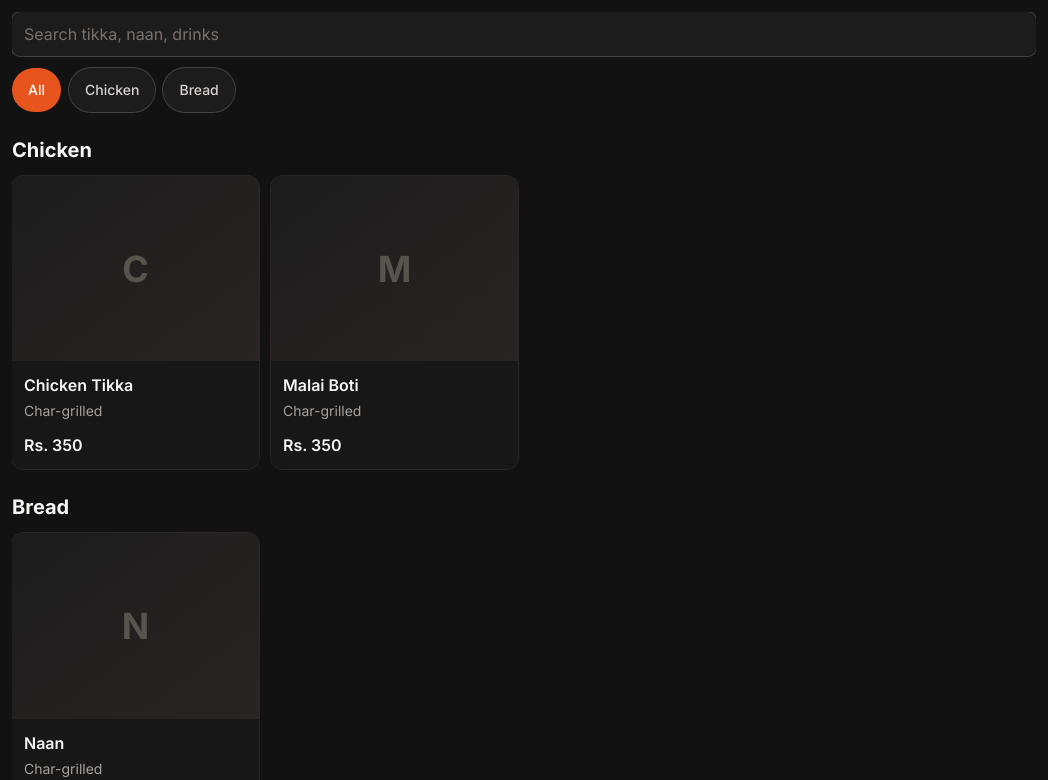
Scenario: MenuBrowser › searches as you type
Type "malai" into the search field named "Search the menu".
click(524, 34); type("malai")  # box [12, 12, 1036, 56]
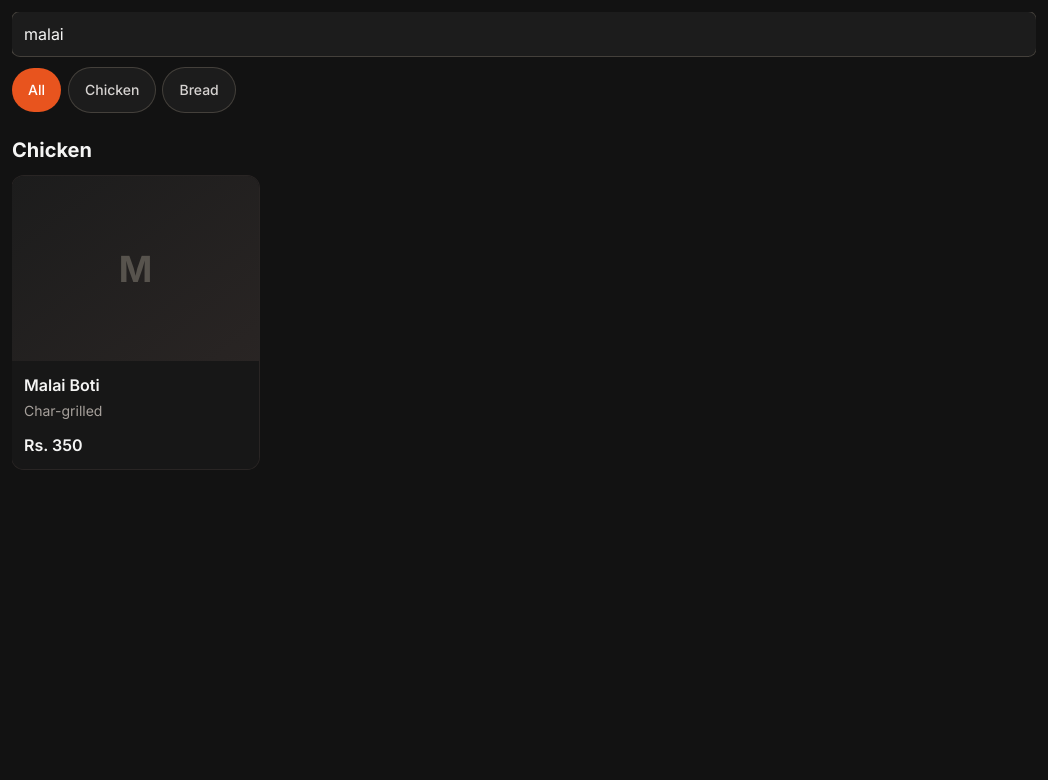
expect the number of links is 1: met, box [12, 176, 259, 469]
